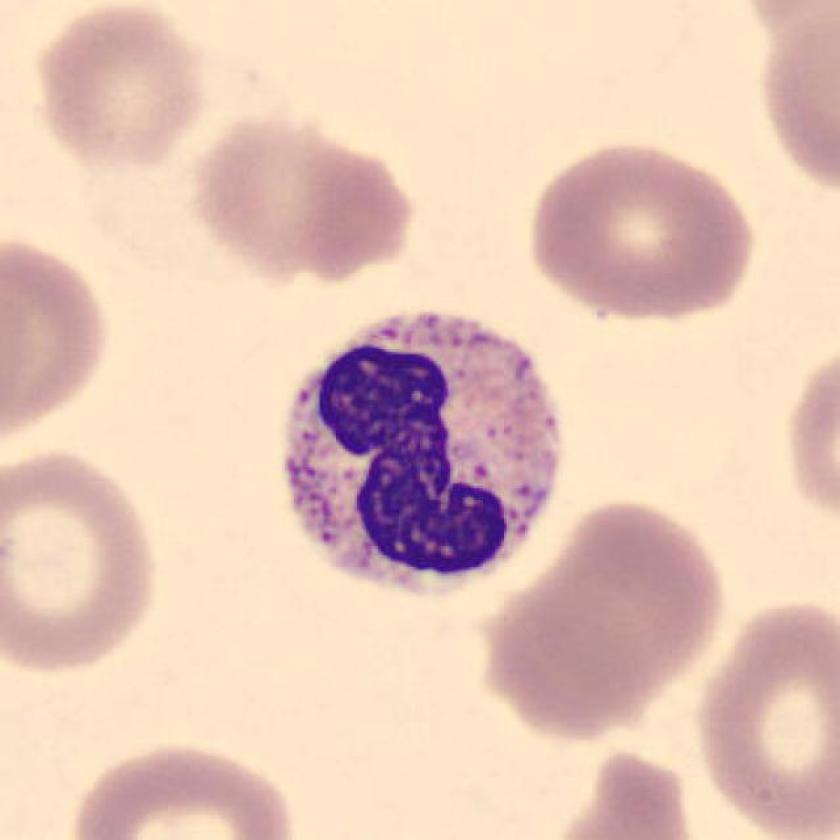neutrophil: (286, 312, 560, 596)
